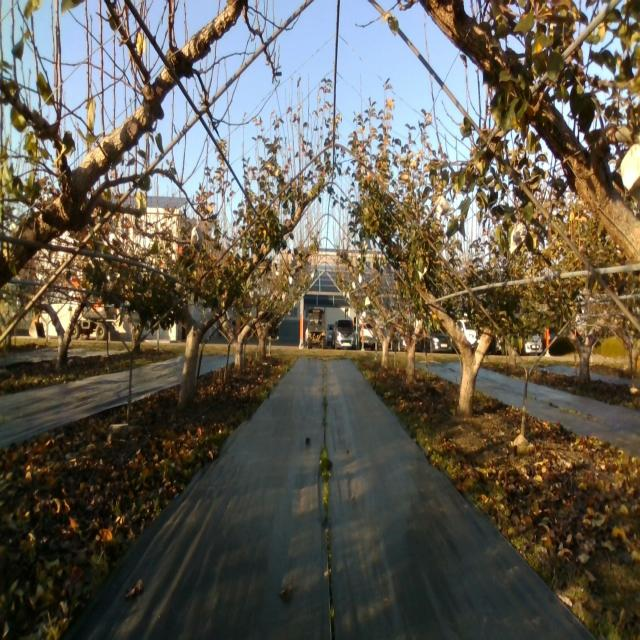pearbags: (620, 143, 640, 191), (510, 222, 528, 256), (436, 193, 451, 220), (190, 220, 203, 251)
